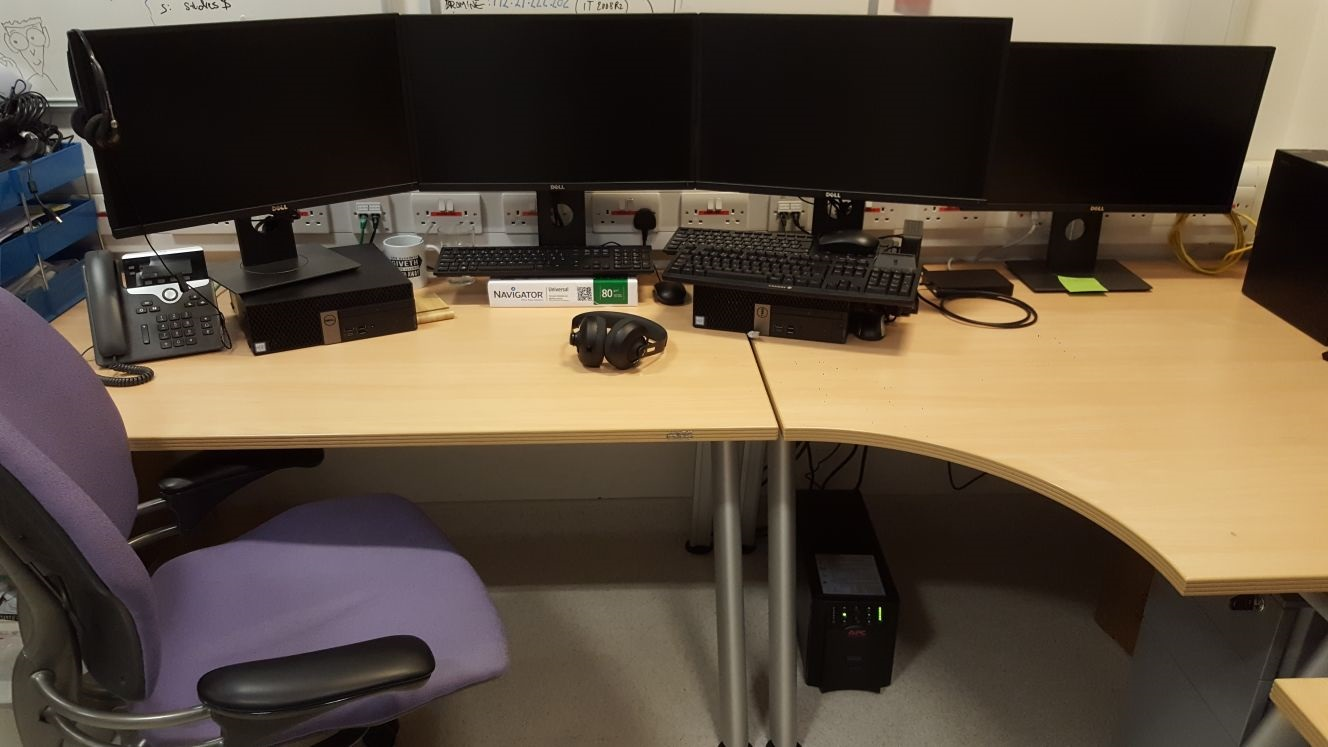Back-UPS: (780, 482, 906, 695)
Chair (Generic): (1, 295, 498, 745)
Desk (Generic): (1, 217, 1307, 573)
Headphones: (563, 299, 675, 370)
Headphones (with Microphone): (50, 16, 131, 149)
Keyboard (Generic): (671, 244, 914, 300), (431, 239, 650, 280), (662, 219, 815, 253)
Monitor (Landscape): (65, 27, 413, 208), (694, 17, 989, 204), (983, 29, 1237, 212), (415, 23, 694, 184)
Mouse (Generic): (816, 226, 881, 254), (860, 302, 891, 344), (652, 274, 689, 307)
Mug: (385, 237, 438, 283)
Telephone: (74, 241, 241, 373)
